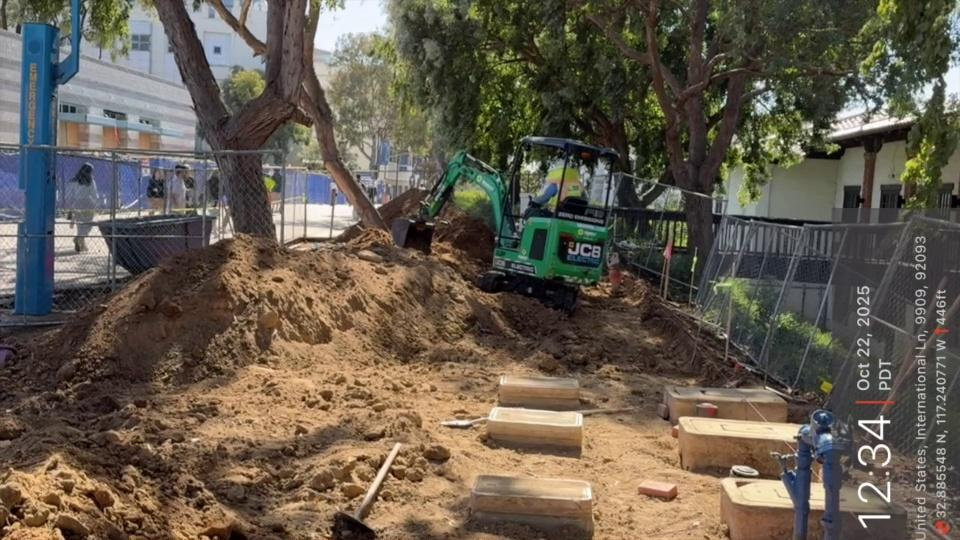Exacavator: (390, 133, 621, 316)
